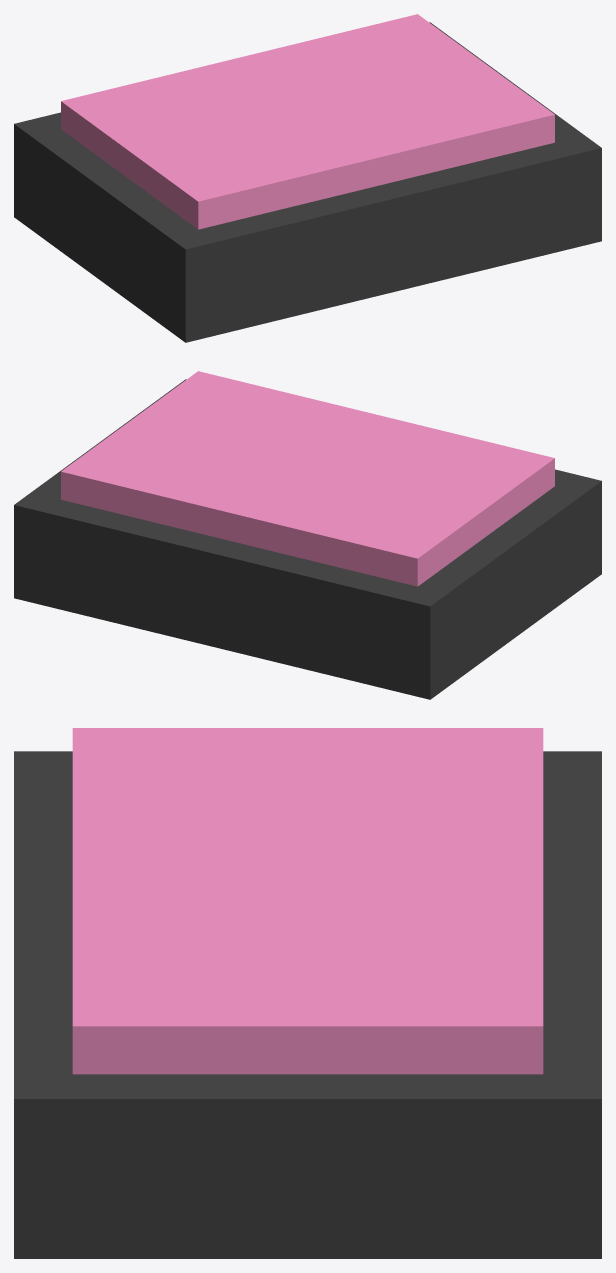
3 renders of one model, top to bottom at view 1: azimuth 30°, elevation 25°; view 2: azimuth 150°, elevation 25°; view 3: azimuth 270°, elevation 25°, orthographic. The views are drawn at different scales.
Visible parts, largest first — view 1: Case, Ink surface; view 2: Case, Ink surface; view 3: Ink surface, Case.
Part boxes in pixels (left/top/right/bottom): Case: left=14, top=22, right=601, bottom=342; Ink surface: left=61, top=14, right=554, bottom=229; Case: left=14, top=379, right=601, bottom=699; Ink surface: left=61, top=371, right=554, bottom=586; Ink surface: left=72, top=728, right=543, bottom=1074; Case: left=14, top=751, right=601, bottom=1258.
Size of the model in its own units: 14 by 3.9 by 10.
